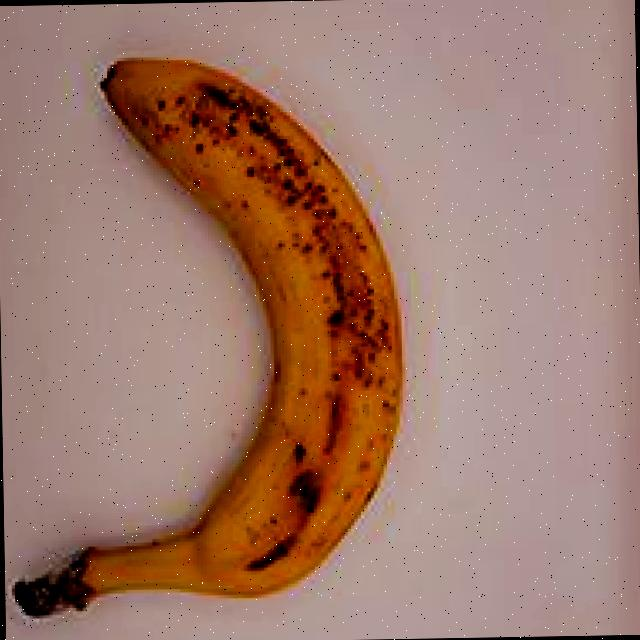Overripe: (0, 21, 433, 640)
